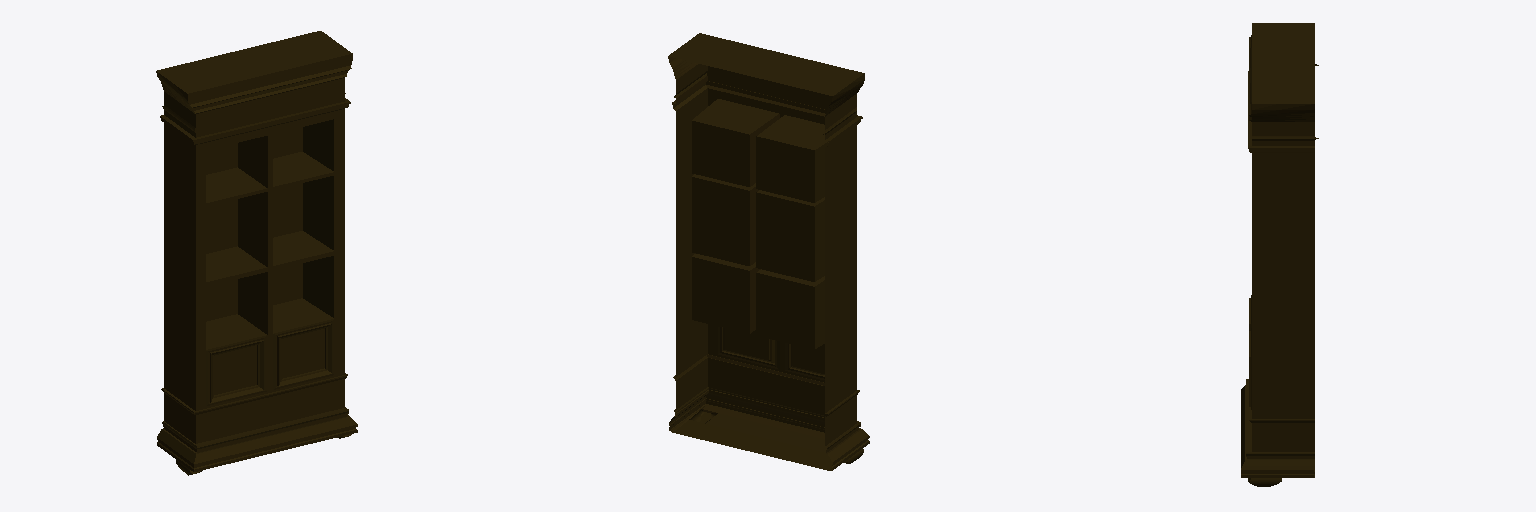
The model's file is Bookshelf.obj.
3 views of the same model, side by side, from view 1: azimuth 30°, elevation 25°; view 2: azimuth 150°, elevation 25°; view 3: azimuth 270°, elevation 25° (orthographic).
Visible parts, largest first — view 1: pCube82; view 2: pCube82; view 3: pCube82.
Boxes of the visible parts, box(x1,y1,x2,y2) form: pCube82: box(156, 31, 357, 475); pCube82: box(668, 33, 869, 470); pCube82: box(1241, 23, 1318, 486).
Size of the model in its own units: 4.87 by 10.85 by 2.01.